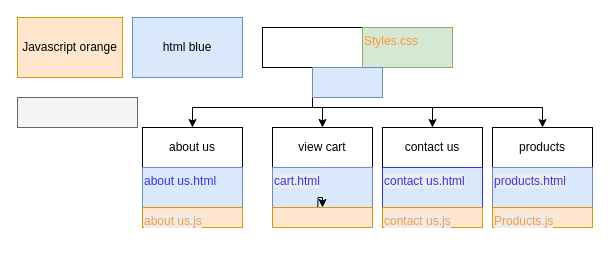
This 610x253 diagram has some shape labels left out. Here are the shapes that lost their labels. From the top down, the centre of each, then its label:
the point at 312,47: hompage
the point at 347,82: index.html
the point at 77,112: white is web page
the point at 322,217: view cart.js
